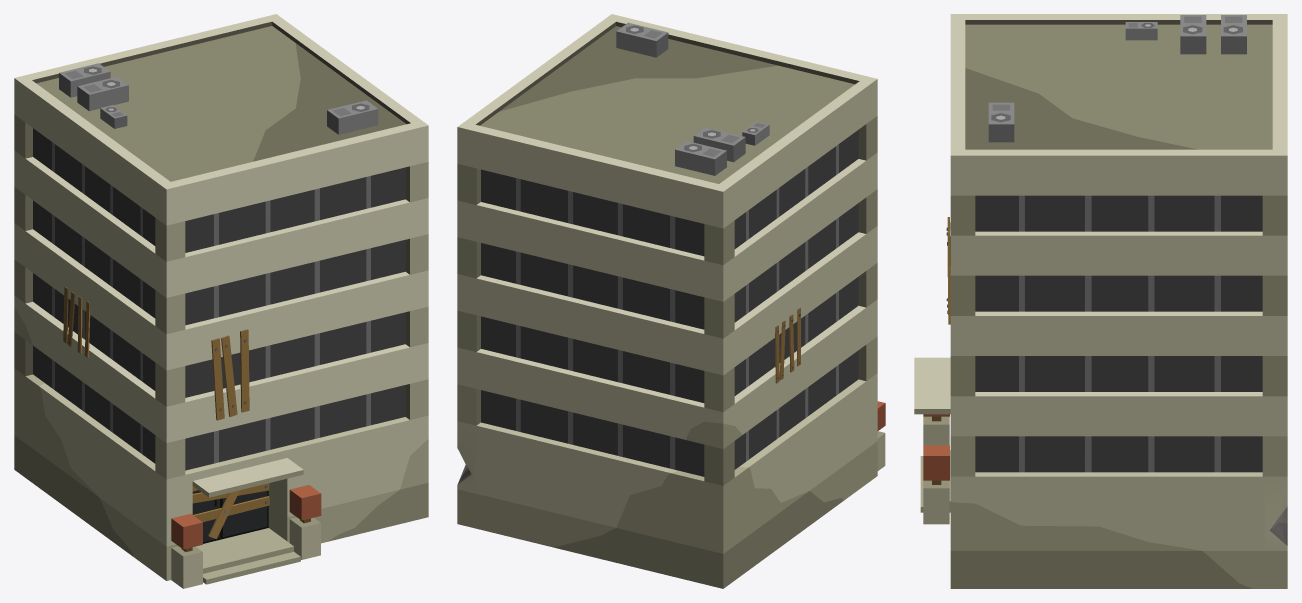
The model's file is SA_Bld_OfficeWhite_02.gltf.
The picture shows the model from 3 angles, left to right: view 1: azimuth 30°, elevation 25°; view 2: azimuth 150°, elevation 25°; view 3: azimuth 270°, elevation 25°; orthographic projection. The views are drawn at different scales.
Visible parts, largest first — view 1: SA_Bld_OfficeWhite_02; view 2: SA_Bld_OfficeWhite_02; view 3: SA_Bld_OfficeWhite_02.
Part boxes in pixels (left/top/right/bottom): SA_Bld_OfficeWhite_02: left=14, top=14, right=428, bottom=588; SA_Bld_OfficeWhite_02: left=457, top=14, right=885, bottom=588; SA_Bld_OfficeWhite_02: left=914, top=14, right=1287, bottom=588.
Size of the model in its own units: 13.75 by 20.04 by 15.17.
1 material, 1 textured.
